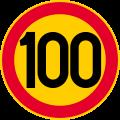Speed Limit -100-: (18, 28, 105, 93)
